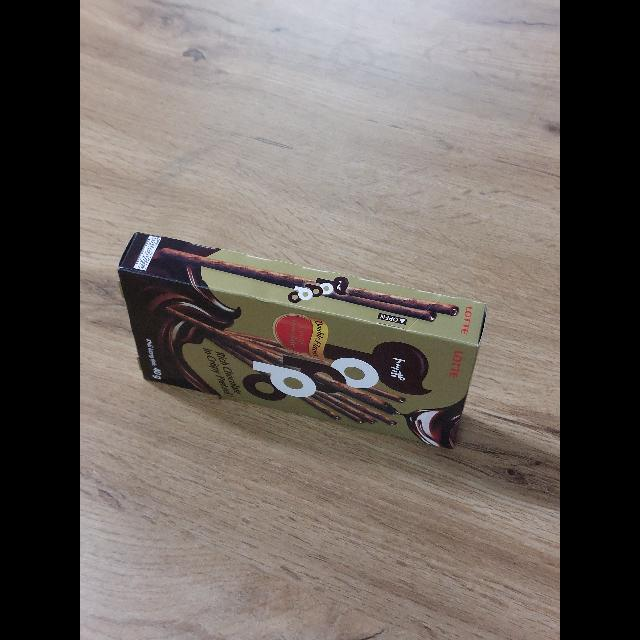banh_toppo_socola: (118, 232, 487, 449)
